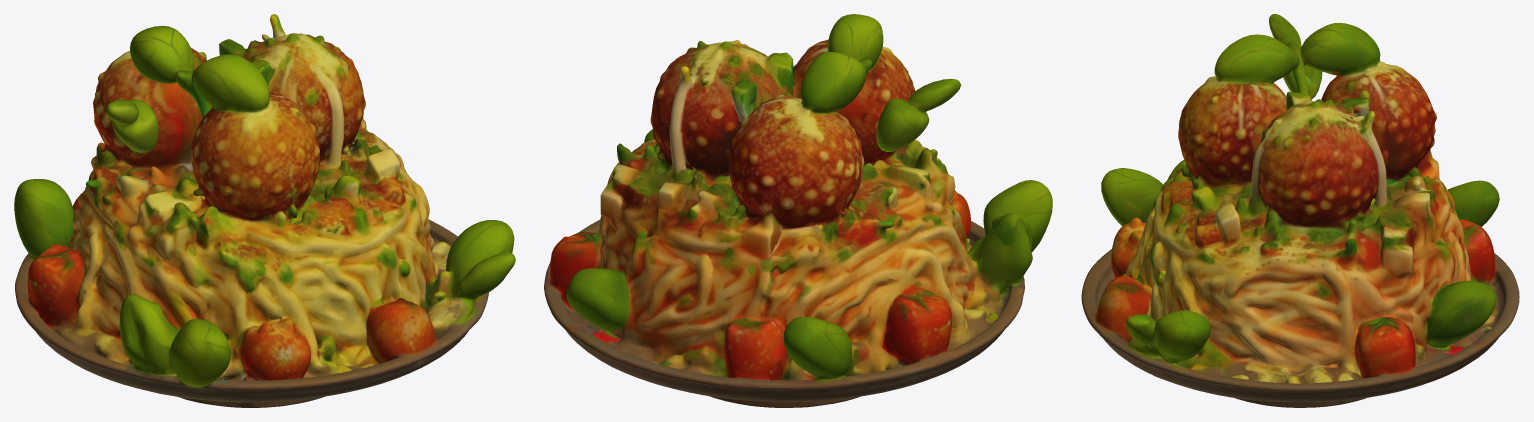
3 views of the same model, side by side, from view 1: azimuth 30°, elevation 25°; view 2: azimuth 150°, elevation 25°; view 3: azimuth 270°, elevation 25° (orthographic). The views are drawn at different scales.
Visible parts, largest first — view 1: tripo_node_2eb927af-1cf1-4922-bb5c-2d79af9c25a5; view 2: tripo_node_2eb927af-1cf1-4922-bb5c-2d79af9c25a5; view 3: tripo_node_2eb927af-1cf1-4922-bb5c-2d79af9c25a5.
Part boxes in pixels (bbox=[...]): tripo_node_2eb927af-1cf1-4922-bb5c-2d79af9c25a5: bbox=[14, 14, 515, 407]; tripo_node_2eb927af-1cf1-4922-bb5c-2d79af9c25a5: bbox=[544, 14, 1052, 407]; tripo_node_2eb927af-1cf1-4922-bb5c-2d79af9c25a5: bbox=[1081, 14, 1519, 407].
Bounding box in the file's own units: 0.9527 × 0.7341 × 0.9498.
Materials: 1 (1 with a texture image).
